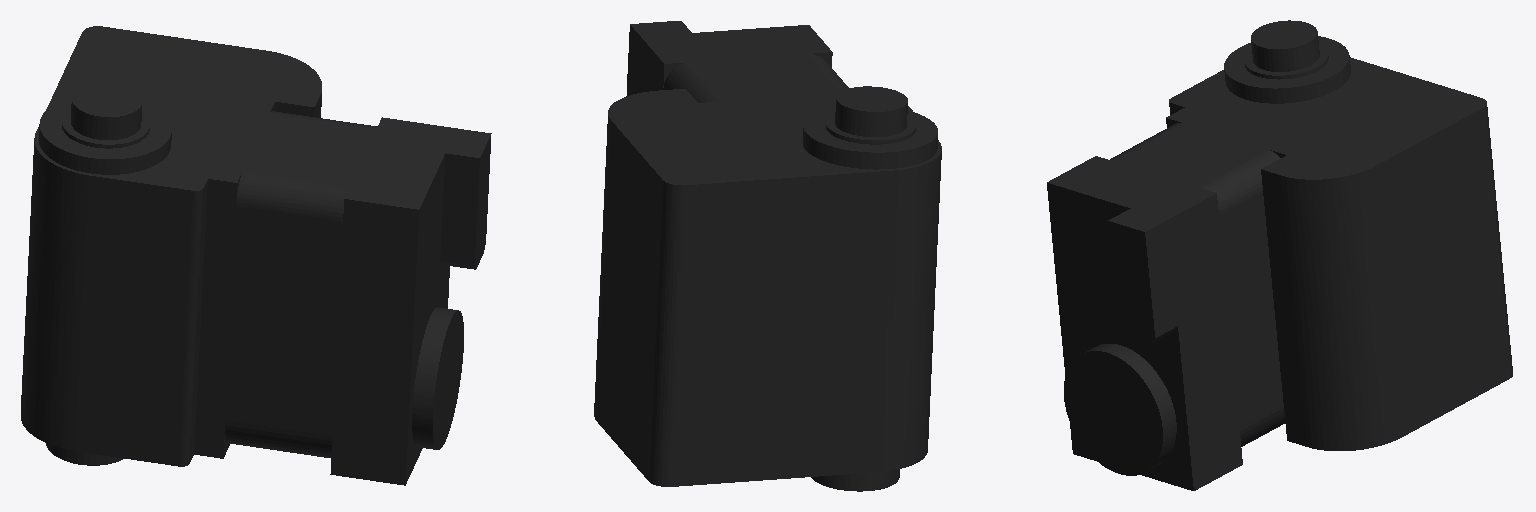
URDF robot description (allegro_hand_left):
<?xml version="1.0" ?>
<!-- =================================================================================== -->
<!-- |    This document was autogenerated by xacro from allegro_hand_description_left.xacro | -->
<!-- |    EDITING THIS FILE BY HAND IS NOT RECOMMENDED                                 | -->
<!-- =================================================================================== -->
<robot name="allegro_hand_left" xmlns:xacro="http://www.ros.org/wiki/xacro">
  <!-- ======================== BASE PARAMS ========================= -->
  <!-- ======================== FINGER PARAMS ======================== -->
  <!-- full height from joint to tip. when used,
         the radius of the finger tip sphere will be subtracted
         and one fixed link will be added for the tip. -->
  <!-- ========================= THUMB PARAMS ========================= -->
  <!-- ========================= LIMITS ========================= -->
  <!-- ============================================================================= -->
  <!-- PALM -->
  <link name="palm_link">
    <visual>
      <geometry>
        <mesh filename="package://allegro_hand_description/meshes/base_link_left.STL"/>
      </geometry>
      <origin rpy="-1.5707963259 0 0" xyz="0 0 0 "/>
      <material name="black">
        <color rgba="0.2 0.2 0.2 1"/>
      </material>
    </visual>
    <collision>
      <origin rpy="0 0 0" xyz="-0.009300 0 -0.0475"/>
      <geometry>
        <box size="0.0408 0.1130 0.095"/>
      </geometry>
    </collision>
    <inertial>
      <origin rpy="0 0 0" xyz="0 0 0.0475"/>
      <mass value="0.4154"/>
      <inertia ixx="1e-4" ixy="0.0" ixz="0.0" iyy="1e-4" iyz="0.0" izz="1e-4"/>
    </inertial>
  </link>
  <!-- ============================================================================= -->
  <!-- FINGERS -->
  <!-- RIGHT HAND due to which finger is number 0 -->
  <!-- for LEFT HAND switch the sign of the **offset_origin_y** and **finger_angle_r** parameters-->
  <!-- [LINK 0, 4, 8] -->
  <link name="link_8.0">
    <visual>
      <geometry>
        <mesh filename="package://allegro_hand_description/meshes/link_0.0.STL"/>
      </geometry>
      <material name="black"/>
    </visual>
    <collision>
      <geometry>
        <box size="0.0196 0.0275 0.0164"/>
      </geometry>
      <origin rpy="0 0 0" xyz="0 0 0.0082"/>
    </collision>
    <inertial>
      <mass value="0.0119"/>
      <origin rpy="0 0 0" xyz="0 0 0"/>
      <inertia ixx="1.01666658333e-06" ixy="0.0" ixz="0.0" iyy="6.47677333333e-07" iyz="0.0" izz="1.01666658333e-06"/>
    </inertial>
  </link>
  <joint name="joint_8" type="revolute">
    <axis xyz="0 0 1"/>
    <limit effort="15" lower="-0.47" upper="0.47" velocity="7"/>
    <parent link="palm_link"/>
    <child link="link_8.0"/>
    <origin rpy="-0.08726646255 0 0" xyz="0 0.0435 -0.001542"/>
    <dynamics damping="3" friction="10"/>
  </joint>
  <!-- [LINK 1, 5, 9] -->
  <link name="link_9.0">
    <visual>
      <geometry>
        <mesh filename="package://allegro_hand_description/meshes/link_1.0.STL"/>
      </geometry>
      <material name="black"/>
    </visual>
    <collision>
      <geometry>
        <box size="0.0196 0.0275 0.054"/>
      </geometry>
      <origin rpy="0 0 0" xyz="0 0 0.027"/>
    </collision>
    <inertial>
      <mass value="0.065"/>
      <origin rpy="0 0 0" xyz="0 0 0"/>
      <inertia ixx="7.95654166667e-05" ixy="1.7199e-05" ixz="8.75875e-06" iyy="2.47088833333e-05" iyz="2.413125e-05" izz="7.95654166667e-05"/>
    </inertial>
  </link>
  <joint name="joint_9" type="revolute">
    <limit effort="15" lower="-0.196" upper="1.61" velocity="7"/>
    <axis xyz="0 1 0"/>
    <parent link="link_8.0"/>
    <child link="link_9.0"/>
    <origin xyz="0 0 0.0164"/>
    <dynamics damping="3" friction="5"/>
  </joint>
  <!-- [LINK 2, 6, 10]-->
  <link name="link_10.0">
    <visual>
      <geometry>
        <mesh filename="package://allegro_hand_description/meshes/link_2.0.STL"/>
      </geometry>
      <material name="black"/>
    </visual>
    <collision>
      <geometry>
        <box size="0.0196 0.0275 0.0384"/>
      </geometry>
      <origin rpy="0 0 0" xyz="0 0 0.0192"/>
    </collision>
    <inertial>
      <mass value="0.0355"/>
      <origin rpy="0 0 0" xyz="0 0 0"/>
      <inertia ixx="2.63979183333e-05" ixy="6.67968e-06" ixz="4.783625e-06" iyy="1.34948516667e-05" iyz="9.372e-06" izz="2.63979183333e-05"/>
    </inertial>
  </link>
  <joint name="joint_10" type="revolute">
    <axis xyz="0 1 0"/>
    <limit effort="15" lower="-0.174" upper="1.709" velocity="7"/>
    <parent link="link_9.0"/>
    <child link="link_10.0"/>
    <origin xyz="0 0 0.054"/>
    <dynamics damping="8" friction="10"/>
  </joint>
  <!-- [LINK 3, 7, 11] -->
  <link name="link_11.0">
    <visual>
      <geometry>
        <mesh filename="package://allegro_hand_description/meshes/link_3.0.STL"/>
      </geometry>
      <material name="black"/>
    </visual>
    <collision>
      <geometry>
        <box size="0.0196 0.0275 0.0267"/>
      </geometry>
      <origin rpy="0 0 0" xyz="0 0 0.01335"/>
    </collision>
    <inertial>
      <mass value="0.0096"/>
      <origin rpy="0 0 0" xyz="0 0 0"/>
      <inertia ixx="4.701248e-06" ixy="1.255968e-06" ixz="1.2936e-06" iyy="3.649312e-06" iyz="1.7622e-06" izz="4.701248e-06"/>
    </inertial>
  </link>
  <joint name="joint_11" type="revolute">
    <axis xyz="0 1 0"/>
    <limit effort="15" lower="-0.227" upper="1.618" velocity="7"/>
    <parent link="link_10.0"/>
    <child link="link_11.0"/>
    <origin xyz="0 0 0.0384"/>
    <dynamics damping="10" friction="12"/>
  </joint>
  <!-- [FINGER TIP] -->
  <link name="link_11.0_tip">
    <visual>
      <geometry>
        <mesh filename="package://allegro_hand_description/meshes/link_3.0_tip.STL"/>
      </geometry>
      <material name="white">
        <color rgba=".9 .9 .9 1"/>
      </material>
    </visual>
    <collision>
      <geometry>
        <sphere radius="0.012"/>
      </geometry>
    </collision>
    <inertial>
      <mass value="0.0168"/>
      <origin rpy="0 0 0" xyz="0 0 0"/>
      <inertia ixx="9.68e-07" ixy="0" ixz="0" iyy="9.68e-07" iyz="0" izz="9.68e-07"/>
    </inertial>
  </link>
  <joint name="joint_11_tip" type="fixed">
    <parent link="link_11.0"/>
    <child link="link_11.0_tip"/>
    <origin rpy="0 0 0" xyz="0 0 0.0267"/>
  </joint>
  <!-- [LINK 0, 4, 8] -->
  <link name="link_4.0">
    <visual>
      <geometry>
        <mesh filename="package://allegro_hand_description/meshes/link_0.0.STL"/>
      </geometry>
      <material name="black"/>
    </visual>
    <collision>
      <geometry>
        <box size="0.0196 0.0275 0.0164"/>
      </geometry>
      <origin rpy="0 0 0" xyz="0 0 0.0082"/>
    </collision>
    <inertial>
      <mass value="0.0119"/>
      <origin rpy="0 0 0" xyz="0 0 0"/>
      <inertia ixx="1.01666658333e-06" ixy="0.0" ixz="0.0" iyy="6.47677333333e-07" iyz="0.0" izz="1.01666658333e-06"/>
    </inertial>
  </link>
  <joint name="joint_4" type="revolute">
    <axis xyz="0 0 1"/>
    <limit effort="15" lower="-0.47" upper="0.47" velocity="7"/>
    <parent link="palm_link"/>
    <child link="link_4.0"/>
    <origin rpy="0.0 0 0" xyz="0 0 0.0007"/>
    <dynamics damping="3" friction="10"/>
  </joint>
  <!-- [LINK 1, 5, 9] -->
  <link name="link_5.0">
    <visual>
      <geometry>
        <mesh filename="package://allegro_hand_description/meshes/link_1.0.STL"/>
      </geometry>
      <material name="black"/>
    </visual>
    <collision>
      <geometry>
        <box size="0.0196 0.0275 0.054"/>
      </geometry>
      <origin rpy="0 0 0" xyz="0 0 0.027"/>
    </collision>
    <inertial>
      <mass value="0.065"/>
      <origin rpy="0 0 0" xyz="0 0 0"/>
      <inertia ixx="7.95654166667e-05" ixy="1.7199e-05" ixz="8.75875e-06" iyy="2.47088833333e-05" iyz="2.413125e-05" izz="7.95654166667e-05"/>
    </inertial>
  </link>
  <joint name="joint_5" type="revolute">
    <limit effort="15" lower="-0.196" upper="1.61" velocity="7"/>
    <axis xyz="0 1 0"/>
    <parent link="link_4.0"/>
    <child link="link_5.0"/>
    <origin xyz="0 0 0.0164"/>
    <dynamics damping="3" friction="5"/>
  </joint>
  <!-- [LINK 2, 6, 10]-->
  <link name="link_6.0">
    <visual>
      <geometry>
        <mesh filename="package://allegro_hand_description/meshes/link_2.0.STL"/>
      </geometry>
      <material name="black"/>
    </visual>
    <collision>
      <geometry>
        <box size="0.0196 0.0275 0.0384"/>
      </geometry>
      <origin rpy="0 0 0" xyz="0 0 0.0192"/>
    </collision>
    <inertial>
      <mass value="0.0355"/>
      <origin rpy="0 0 0" xyz="0 0 0"/>
      <inertia ixx="2.63979183333e-05" ixy="6.67968e-06" ixz="4.783625e-06" iyy="1.34948516667e-05" iyz="9.372e-06" izz="2.63979183333e-05"/>
    </inertial>
  </link>
  <joint name="joint_6" type="revolute">
    <axis xyz="0 1 0"/>
    <limit effort="15" lower="-0.174" upper="1.709" velocity="7"/>
    <parent link="link_5.0"/>
    <child link="link_6.0"/>
    <origin xyz="0 0 0.054"/>
    <dynamics damping="8" friction="10"/>
  </joint>
  <!-- [LINK 3, 7, 11] -->
  <link name="link_7.0">
    <visual>
      <geometry>
        <mesh filename="package://allegro_hand_description/meshes/link_3.0.STL"/>
      </geometry>
      <material name="black"/>
    </visual>
    <collision>
      <geometry>
        <box size="0.0196 0.0275 0.0267"/>
      </geometry>
      <origin rpy="0 0 0" xyz="0 0 0.01335"/>
    </collision>
    <inertial>
      <mass value="0.0096"/>
      <origin rpy="0 0 0" xyz="0 0 0"/>
      <inertia ixx="4.701248e-06" ixy="1.255968e-06" ixz="1.2936e-06" iyy="3.649312e-06" iyz="1.7622e-06" izz="4.701248e-06"/>
    </inertial>
  </link>
  <joint name="joint_7" type="revolute">
    <axis xyz="0 1 0"/>
    <limit effort="15" lower="-0.227" upper="1.618" velocity="7"/>
    <parent link="link_6.0"/>
    <child link="link_7.0"/>
    <origin xyz="0 0 0.0384"/>
    <dynamics damping="10" friction="12"/>
  </joint>
  <!-- [FINGER TIP] -->
  <link name="link_7.0_tip">
    <visual>
      <geometry>
        <mesh filename="package://allegro_hand_description/meshes/link_3.0_tip.STL"/>
      </geometry>
      <material name="white">
        <color rgba=".9 .9 .9 1"/>
      </material>
    </visual>
    <collision>
      <geometry>
        <sphere radius="0.012"/>
      </geometry>
    </collision>
    <inertial>
      <mass value="0.0168"/>
      <origin rpy="0 0 0" xyz="0 0 0"/>
      <inertia ixx="9.68e-07" ixy="0" ixz="0" iyy="9.68e-07" iyz="0" izz="9.68e-07"/>
    </inertial>
  </link>
  <joint name="joint_7_tip" type="fixed">
    <parent link="link_7.0"/>
    <child link="link_7.0_tip"/>
    <origin rpy="0 0 0" xyz="0 0 0.0267"/>
  </joint>
  <!-- [LINK 0, 4, 8] -->
  <link name="link_0.0">
    <visual>
      <geometry>
        <mesh filename="package://allegro_hand_description/meshes/link_0.0.STL"/>
      </geometry>
      <material name="black"/>
    </visual>
    <collision>
      <geometry>
        <box size="0.0196 0.0275 0.0164"/>
      </geometry>
      <origin rpy="0 0 0" xyz="0 0 0.0082"/>
    </collision>
    <inertial>
      <mass value="0.0119"/>
      <origin rpy="0 0 0" xyz="0 0 0"/>
      <inertia ixx="1.01666658333e-06" ixy="0.0" ixz="0.0" iyy="6.47677333333e-07" iyz="0.0" izz="1.01666658333e-06"/>
    </inertial>
  </link>
  <joint name="joint_0" type="revolute">
    <axis xyz="0 0 1"/>
    <limit effort="15" lower="-0.47" upper="0.47" velocity="7"/>
    <parent link="palm_link"/>
    <child link="link_0.0"/>
    <origin rpy="0.08726646255 0 0" xyz="0 -0.0435 -0.001542"/>
    <dynamics damping="3" friction="10"/>
  </joint>
  <!-- [LINK 1, 5, 9] -->
  <link name="link_1.0">
    <visual>
      <geometry>
        <mesh filename="package://allegro_hand_description/meshes/link_1.0.STL"/>
      </geometry>
      <material name="black"/>
    </visual>
    <collision>
      <geometry>
        <box size="0.0196 0.0275 0.054"/>
      </geometry>
      <origin rpy="0 0 0" xyz="0 0 0.027"/>
    </collision>
    <inertial>
      <mass value="0.065"/>
      <origin rpy="0 0 0" xyz="0 0 0"/>
      <inertia ixx="7.95654166667e-05" ixy="1.7199e-05" ixz="8.75875e-06" iyy="2.47088833333e-05" iyz="2.413125e-05" izz="7.95654166667e-05"/>
    </inertial>
  </link>
  <joint name="joint_1" type="revolute">
    <limit effort="15" lower="-0.196" upper="1.61" velocity="7"/>
    <axis xyz="0 1 0"/>
    <parent link="link_0.0"/>
    <child link="link_1.0"/>
    <origin xyz="0 0 0.0164"/>
    <dynamics damping="3" friction="5"/>
  </joint>
  <!-- [LINK 2, 6, 10]-->
  <link name="link_2.0">
    <visual>
      <geometry>
        <mesh filename="package://allegro_hand_description/meshes/link_2.0.STL"/>
      </geometry>
      <material name="black"/>
    </visual>
    <collision>
      <geometry>
        <box size="0.0196 0.0275 0.0384"/>
      </geometry>
      <origin rpy="0 0 0" xyz="0 0 0.0192"/>
    </collision>
    <inertial>
      <mass value="0.0355"/>
      <origin rpy="0 0 0" xyz="0 0 0"/>
      <inertia ixx="2.63979183333e-05" ixy="6.67968e-06" ixz="4.783625e-06" iyy="1.34948516667e-05" iyz="9.372e-06" izz="2.63979183333e-05"/>
    </inertial>
  </link>
  <joint name="joint_2" type="revolute">
    <axis xyz="0 1 0"/>
    <limit effort="15" lower="-0.174" upper="1.709" velocity="7"/>
    <parent link="link_1.0"/>
    <child link="link_2.0"/>
    <origin xyz="0 0 0.054"/>
    <dynamics damping="8" friction="10"/>
  </joint>
  <!-- [LINK 3, 7, 11] -->
  <link name="link_3.0">
    <visual>
      <geometry>
        <mesh filename="package://allegro_hand_description/meshes/link_3.0.STL"/>
      </geometry>
      <material name="black"/>
    </visual>
    <collision>
      <geometry>
        <box size="0.0196 0.0275 0.0267"/>
      </geometry>
      <origin rpy="0 0 0" xyz="0 0 0.01335"/>
    </collision>
    <inertial>
      <mass value="0.0096"/>
      <origin rpy="0 0 0" xyz="0 0 0"/>
      <inertia ixx="4.701248e-06" ixy="1.255968e-06" ixz="1.2936e-06" iyy="3.649312e-06" iyz="1.7622e-06" izz="4.701248e-06"/>
    </inertial>
  </link>
  <joint name="joint_3" type="revolute">
    <axis xyz="0 1 0"/>
    <limit effort="15" lower="-0.227" upper="1.618" velocity="7"/>
    <parent link="link_2.0"/>
    <child link="link_3.0"/>
    <origin xyz="0 0 0.0384"/>
    <dynamics damping="10" friction="12"/>
  </joint>
  <!-- [FINGER TIP] -->
  <link name="link_3.0_tip">
    <visual>
      <geometry>
        <mesh filename="package://allegro_hand_description/meshes/link_3.0_tip.STL"/>
      </geometry>
      <material name="white">
        <color rgba=".9 .9 .9 1"/>
      </material>
    </visual>
    <collision>
      <geometry>
        <sphere radius="0.012"/>
      </geometry>
    </collision>
    <inertial>
      <mass value="0.0168"/>
      <origin rpy="0 0 0" xyz="0 0 0"/>
      <inertia ixx="9.68e-07" ixy="0" ixz="0" iyy="9.68e-07" iyz="0" izz="9.68e-07"/>
    </inertial>
  </link>
  <joint name="joint_3_tip" type="fixed">
    <parent link="link_3.0"/>
    <child link="link_3.0_tip"/>
    <origin rpy="0 0 0" xyz="0 0 0.0267"/>
  </joint>
  <!-- THUMB -->
  <!-- [LINK 12] -->
  <link name="link_12.0">
    <visual>
      <geometry>
        <mesh filename="package://allegro_hand_description/meshes/link_12.0_left.STL"/>
      </geometry>
      <material name="black">
        <color rgba=".2 .2 .2 1"/>
      </material>
      <origin rpy="3.1415926518 0 0" xyz="0 0 0"/>
    </visual>
    <collision>
      <geometry>
        <box size="0.0358 0.034 0.0455"/>
      </geometry>
      <origin rpy="0 0 0" xyz="-0.0179 -0.009 0.0145"/>
    </collision>
    <inertial>
      <mass value="0.0176"/>
      <origin rpy="0 0 0" xyz="0 0 0"/>
      <inertia ixx="1.89273333333e-5" ixy="7.16716e-06" ixz="5.35568e-06" iyy="1.43008213333e-05" iyz="6.8068e-06" izz="1.89273333333e-05"/>
    </inertial>
  </link>
  <joint name="joint_12" type="revolute">
    <axis xyz="+1 0 0"/>
    <limit effort="15" lower="0.263" upper="1.396" velocity="7"/>
    <parent link="palm_link"/>
    <child link="link_12.0"/>
    <origin rpy="0 -1.65806278845 1.5707963259" xyz="-0.0182 -0.019333 -0.045987"/>
    <dynamics damping="3" friction="10"/>
  </joint>
  <!-- [LINK 13] -->
  <link name="link_13.0">
    <visual>
      <geometry>
        <mesh filename="package://allegro_hand_description/meshes/link_13.0.STL"/>
      </geometry>
      <material name="black">
        <color rgba=".2 .2 .2 1"/>
      </material>
    </visual>
    <collision>
      <geometry>
        <box size="0.0196 0.0275 0.0177"/>
      </geometry>
      <origin rpy="0 0 0" xyz="0 0 0.00885"/>
    </collision>
    <inertial>
      <mass value="0.0119"/>
      <origin rpy="0 0 0" xyz="0 0 0"/>
      <inertia ixx="4.24250866667e-06" ixy="1.032087e-06" ixz="1.603525e-06" iyy="4.52362633333e-06" iyz="1.44808125e-06" izz="4.24250866667e-06"/>
    </inertial>
  </link>
  <joint name="joint_13" type="revolute">
    <axis xyz="0 0 -1"/>
    <limit effort="15" lower="-0.105" upper="1.163" velocity="7"/>
    <parent link="link_12.0"/>
    <child link="link_13.0"/>
    <origin xyz="-0.027 -0.005 0.0399"/>
    <dynamics damping="3" friction="5"/>
  </joint>
  <!-- [LINK 14] -->
  <link name="link_14.0">
    <visual>
      <geometry>
        <mesh filename="package://allegro_hand_description/meshes/link_14.0.STL"/>
      </geometry>
      <material name="black">
                </material>
    </visual>
    <collision>
      <geometry>
        <box size="0.0196 0.0275 0.0514"/>
      </geometry>
      <origin rpy="0 0 0" xyz="0 0 0.0257"/>
    </collision>
    <inertial>
      <mass value="0.038"/>
      <origin rpy="0 0 0" xyz="0 0 0"/>
      <inertia ixx="4.30439933333e-05" ixy="9.57068e-06" ixz="5.1205e-06" iyy="1.44451933333e-05" iyz="1.342825e-05" izz="4.30439933333e-05"/>
    </inertial>
  </link>
  <joint name="joint_14" type="revolute">
    <axis xyz="0 1 0"/>
    <limit effort="15" lower="-0.189" upper="1.644" velocity="7"/>
    <parent link="link_13.0"/>
    <child link="link_14.0"/>
    <origin xyz="0 0 0.0177"/>
    <dynamics damping="3" friction="10"/>
  </joint>
  <!-- [LINK 15] -->
  <link name="link_15.0">
    <visual>
      <geometry>
        <mesh filename="package://allegro_hand_description/meshes/link_15.0.STL"/>
      </geometry>
      <material name="black">
                </material>
    </visual>
    <collision>
      <geometry>
        <box size="0.0196 0.0275 0.0423"/>
      </geometry>
      <origin rpy="0 0 0" xyz="0 0 0.02115"/>
    </collision>
    <inertial>
      <mass value="0.0388"/>
      <origin rpy="0 0 0" xyz="0 0 0"/>
      <inertia ixx="3.29223173333e-05" ixy="8.042076e-06" ixz="5.2283e-06" iyy="1.47493026667e-5" iyz="1.1283525e-5" izz="3.29223173333e-05"/>
    </inertial>
  </link>
  <joint name="joint_15" type="revolute">
    <axis xyz="0 1 0"/>
    <limit effort="15" lower="-0.162" upper="1.719" velocity="7"/>
    <parent link="link_14.0"/>
    <child link="link_15.0"/>
    <origin xyz="0 0 0.0514"/>
    <dynamics damping="3" friction="12"/>
  </joint>
  <!-- [FINGER TIP] -->
  <link name="link_15.0_tip">
    <visual>
      <geometry>
        <mesh filename="package://allegro_hand_description/meshes/link_15.0_tip.STL"/>
      </geometry>
      <material name="white">
        <color rgba=".9 .9 .9 1"/>
      </material>
    </visual>
    <collision>
      <geometry>
        <sphere radius="0.012"/>
      </geometry>
      <origin rpy="0 0 0" xyz="0 0 0"/>
    </collision>
    <inertial>
      <mass value="0.0168"/>
      <origin rpy="0 0 0" xyz="0 0 0"/>
      <inertia ixx="9.68e-07" ixy="0" ixz="0" iyy="9.68e-07" iyz="0" izz="9.68e-07"/>
    </inertial>
  </link>
  <joint name="joint_15_tip" type="fixed">
    <parent link="link_15.0"/>
    <child link="link_15.0_tip"/>
    <origin rpy="0 0 0" xyz="0 0 0.0423"/>
  </joint>
  <!-- ============================================================================= -->
  <!-- THUMB MACRO -->
  <!-- END THUMB MACRO -->
  <!-- THREE FINGER MACRO -->
  <!-- [[END]] THREE FINGER MACRO -->
</robot>

--- What the picture shows (computed from the rendered views, not written in the file) ---
The picture shows the robot from 3 angles, left to right: view 1: azimuth 30°, elevation 25°; view 2: azimuth 150°, elevation 25°; view 3: azimuth 270°, elevation 25°; orthographic projection.
Model allegro_hand_left with 21 links and 20 joints (16 revolute, 4 fixed), rooted at palm_link, posed all joints at 0 but 1 set to mid-range because 0 is outside their limits (joint_12 = 0.8295).
Visible links, largest first — view 1: link_12.0; view 2: link_12.0; view 3: link_12.0.
Boxes of the visible links, x1,y1,x2,y2 form: link_12.0: (21,26,491,485); link_12.0: (594,21,941,491); link_12.0: (1047,20,1512,490).
Bounding box of the posed robot: 0.0486 × 0.0555 × 0.0453 m (x, y, z).
Meshes: 11 distinct files referenced, 1 mesh visuals loaded (1 binary STL); not drawn: 20 (reference not matched to a file when rendering).